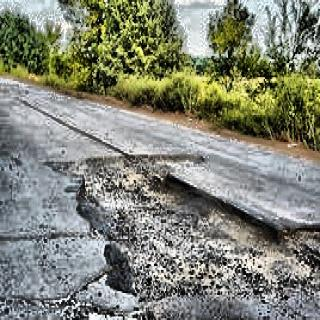pothole: (50, 150, 308, 304)
